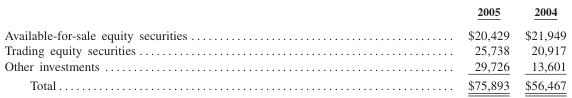table: (3, 4, 565, 91)
table column: (3, 4, 326, 91), (326, 4, 516, 91), (516, 4, 565, 91)
table column header: (3, 4, 565, 22)
table row: (3, 22, 565, 42), (3, 4, 565, 22), (3, 57, 565, 74), (3, 74, 565, 91), (3, 42, 565, 57)
